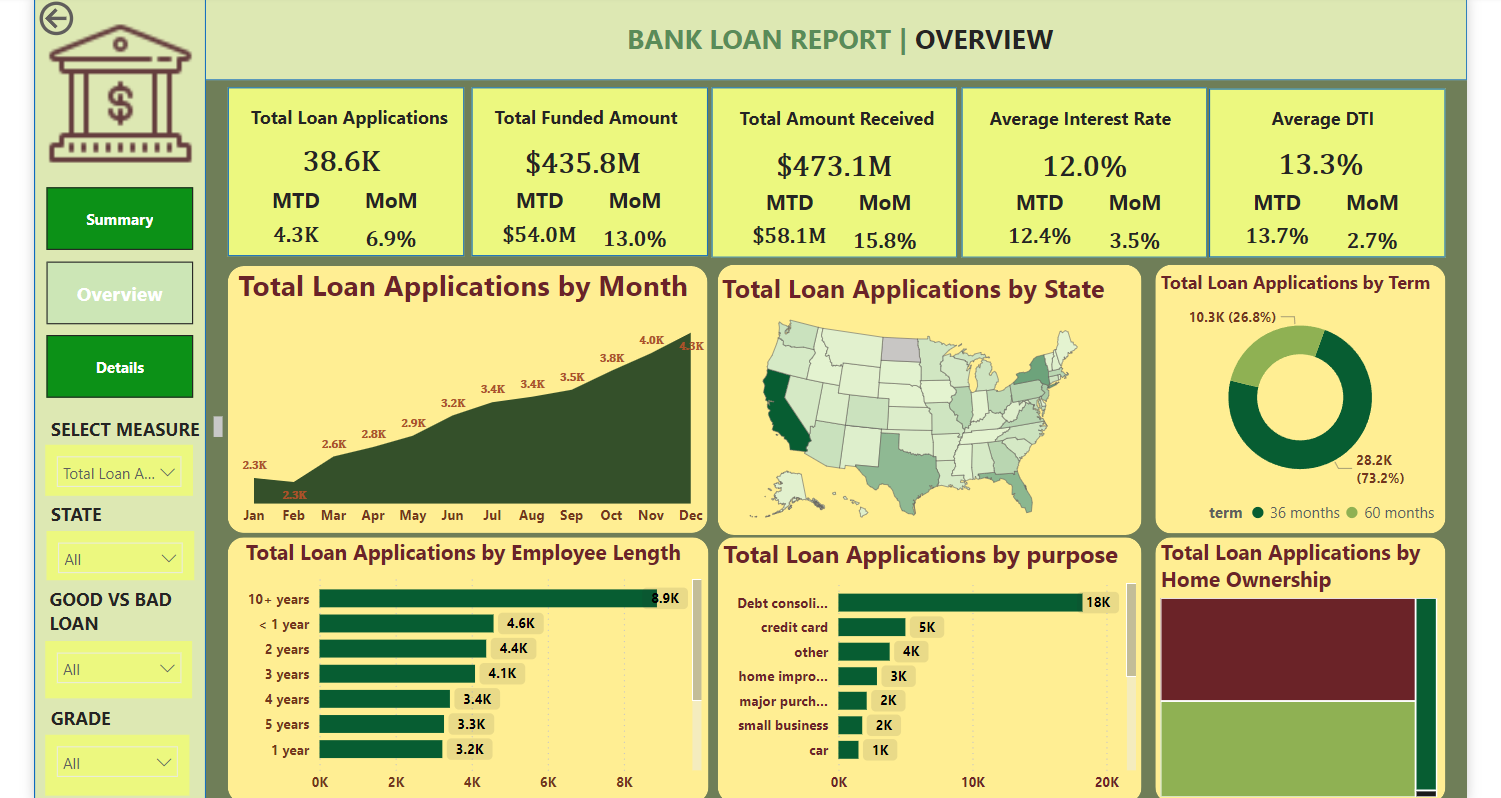

Layout of this report page (visuals, bound fields, positions):
{"tool":"powerbi","page":{"name":"Overview","canvas":[1280,720],"ordinal":1},"visuals":[{"type":"shape","box":[0,0,1280.3,75.5],"z":0},{"type":"shape","box":[172.9,81,211.3,150.9],"z":0,"group":"g1"},{"type":"shape","box":[391.1,81,211.3,150.9],"z":0,"group":"g2"},{"type":"shape","box":[605.1,81,219.6,152.3],"z":0,"group":"g3"},{"type":"shape","box":[828.8,81,219.6,152.3],"z":0,"group":"g5"},{"type":"shape","box":[1049.7,82.3,211.3,150.9],"z":0,"group":"g4"},{"type":"shape","box":[0,0,153.7,720.4],"z":1000},{"type":"card","fields":{"Values":["financial_loan.Total Loan Applications"]},"box":[218.2,116.7,111.1,59],"z":1000,"group":"g1"},{"type":"card","fields":{"Values":["financial_loan.Total Funded Amount"]},"box":[417,121.4,148.2,54.9],"z":1000,"group":"g2"},{"type":"card","fields":{"Values":["financial_loan.Avg DTI"]},"box":[1075.6,122.7,148.2,54.9],"z":1000,"group":"g4"},{"type":"card","fields":{"Values":["financial_loan.Total Amount Received"]},"box":[640.4,123.2,148.2,54.9],"z":1000,"group":"g3"},{"type":"card","fields":{"Values":["financial_loan.Avg Int Rate"]},"box":[864.1,123.2,148.2,54.9],"z":1000,"group":"g5"},{"type":"textbox","box":[524.3,17.1,428.6,47.1],"z":2000},{"type":"textbox","box":[183.9,90.6,200.3,45.3],"z":2000,"group":"g1"},{"type":"textbox","box":[402.1,90.6,200.3,45.3],"z":2000,"group":"g2"},{"type":"textbox","box":[1060.7,91.9,200.3,45.3],"z":2000,"group":"g4"},{"type":"textbox","box":[625.4,92.4,200.3,45.3],"z":2000,"group":"g3"},{"type":"textbox","box":[849.1,92.4,200.3,45.3],"z":2000,"group":"g5"},{"type":"group","id":"g1","title":"Group 1","box":[172.9,81,211.3,159.2],"z":3000},{"type":"card","title":"MTD","fields":{"Values":["financial_loan.MTD Loan Applications"]},"box":[182.5,168.8,101.5,63.1],"z":3000,"group":"g1"},{"type":"card","title":"MTD","fields":{"Values":["financial_loan.MTD Funded Amount"]},"box":[400.7,168.8,101.5,63.1],"z":3000,"group":"g2"},{"type":"card","title":"MTD","fields":{"Values":["financial_loan.MTD dti"]},"box":[1059.3,170.1,101.5,63.1],"z":3000,"group":"g4"},{"type":"card","title":"MTD","fields":{"Values":["financial_loan.MTD Amount Received"]},"box":[624.1,170.7,101.5,63.1],"z":3000,"group":"g3"},{"type":"card","title":"MTD","fields":{"Values":["financial_loan.MTD int rate"]},"box":[847.8,170.7,101.5,63.1],"z":3000,"group":"g5"},{"type":"group","id":"g2","title":"Group 1","box":[391.1,81,211.3,159.2],"z":4000},{"type":"card","title":"MoM","fields":{"Values":["financial_loan.MoM Loan Applications"]},"box":[278.6,168.8,79.6,71.4],"z":4000,"group":"g1"},{"type":"card","title":"MoM","fields":{"Values":["financial_loan.MoM funded amount"]},"box":[496.8,168.8,79.6,71.4],"z":4000,"group":"g2"},{"type":"card","title":"MoM","fields":{"Values":["financial_loan.MoM dti"]},"box":[1155.4,170.1,79.6,71.4],"z":4000,"group":"g4"},{"type":"card","title":"MoM","fields":{"Values":["financial_loan.MoM amount received"]},"box":[720.1,170.7,79.6,71.4],"z":4000,"group":"g3"},{"type":"card","title":"MoM","fields":{"Values":["financial_loan.MoM int rate"]},"box":[943.8,170.7,79.6,71.4],"z":4000,"group":"g5"},{"type":"group","id":"g3","title":"Group 1","box":[605.1,81,220.9,160.5],"z":5000},{"type":"actionButton","box":[0,0,100,40],"z":6000},{"type":"group","id":"g4","title":"Group 1","box":[1049.7,82.3,211.3,159.2],"z":7000},{"type":"group","id":"g5","title":"Group 1","box":[828.8,81,220.9,160.5],"z":8000},{"type":"slicer","fields":{"Values":["financial_loan.address_state"]},"box":[11,477.9,131.7,43.9],"z":9000},{"type":"slicer","fields":{"Values":["financial_loan.Good VS Bad Loan"]},"box":[9.6,576.7,131.4,51.4],"z":10000},{"type":"slicer","fields":{"Values":["financial_loan.grade"]},"box":[9.6,659.4,128.6,54.3],"z":11000},{"type":"textbox","box":[9.6,628.5,104.3,31.6],"z":12000},{"type":"textbox","box":[9.2,523.1,131.7,54.9],"z":13000},{"type":"textbox","box":[9.6,446.4,90.6,31.6],"z":14000},{"type":"shape","box":[172.9,241.4,428.6,238.6],"z":15000},{"type":"areaChart","fields":{"Y":["financial_loan.Total Loan Applications"],"Category":["Date Table.Month"]},"box":[177.1,241.4,428.6,241.4],"z":16000},{"type":"slicer","fields":{"Values":["Select Measure.Select Measure"]},"box":[9.6,401.1,131.7,45.3],"z":17000},{"type":"textbox","box":[9.6,370.9,163.3,30.2],"z":18000},{"type":"shape","box":[610.6,240.1,378.7,241.5],"z":19000},{"type":"shapeMap","title":"Total Loan Applications by State","fields":{"Value":["financial_loan.Total Loan Applications"],"Category":["financial_loan.address_state"]},"box":[609.3,244.3,352.7,236],"z":20000},{"type":"shape","box":[1001.7,240.1,259.3,240.1],"z":21000},{"type":"donutChart","title":"Total Loan Applications by Term","fields":{"Y":["financial_loan.Total Loan Applications"],"Category":["financial_loan.term"]},"box":[1001.7,244.3,259.3,236],"z":22000},{"type":"shape","box":[172.9,483,429.5,237.4],"z":23000},{"type":"barChart","title":"Total Loan Applications by Employee Length","fields":{"Category":["financial_loan.emp_length"],"Y":["financial_loan.Total Loan Applications"]},"box":[183.9,483,417.2,237.4],"z":23001},{"type":"shape","box":[610.6,483,378.7,237.4],"z":23002},{"type":"barChart","fields":{"Y":["financial_loan.Total Loan Applications"],"Category":["financial_loan.purpose"]},"box":[610.6,483,378.7,237.4],"z":23003},{"type":"shape","box":[1001.7,483,259.3,237.4],"z":23004},{"type":"treemap","title":"Total Loan Applications by Home Ownership","fields":{"Group":["financial_loan.home_ownership"],"Values":["financial_loan.Total Loan Applications"]},"box":[1001.7,483,256.6,237.4],"z":23005},{"type":"image","box":[0,12.3,153.7,149.6],"z":23006},{"type":"pageNavigator","box":[11.5,170.7,131.7,190.7],"z":23007}]}

Visuals, with their boxes on the page's 1280x720 design canvas (x1, y1, x2, y2). These are canvas units, not pixel positions in the 1501x798 screenshot, which may show the page scaled, cropped or inside an application window:
shape: 0/0/1280/76
shape: 173/81/384/232
shape: 391/81/602/232
shape: 605/81/825/233
shape: 829/81/1048/233
shape: 1050/82/1261/233
shape: 0/0/154/720
card - financial_loan.Total Loan Applications: 218/117/329/176
card - financial_loan.Total Funded Amount: 417/121/565/176
card - financial_loan.Avg DTI: 1076/123/1224/178
card - financial_loan.Total Amount Received: 640/123/789/178
card - financial_loan.Avg Int Rate: 864/123/1012/178
textbox: 524/17/953/64
textbox: 184/91/384/136
textbox: 402/91/602/136
textbox: 1061/92/1261/137
textbox: 625/92/826/138
textbox: 849/92/1049/138
"Group 1" group: 173/81/384/240
"MTD" card: 182/169/284/232
"MTD" card: 401/169/502/232
"MTD" card: 1059/170/1161/233
"MTD" card: 624/171/726/234
"MTD" card: 848/171/949/234
"Group 1" group: 391/81/602/240
"MoM" card: 279/169/358/240
"MoM" card: 497/169/576/240
"MoM" card: 1155/170/1235/242
"MoM" card: 720/171/800/242
"MoM" card: 944/171/1023/242
"Group 1" group: 605/81/826/242
actionButton: 0/0/100/40
"Group 1" group: 1050/82/1261/242
"Group 1" group: 829/81/1050/242
slicer - financial_loan.address_state: 11/478/143/522
slicer - financial_loan.Good VS Bad Loan: 10/577/141/628
slicer - financial_loan.grade: 10/659/138/714
textbox: 10/628/114/660
textbox: 9/523/141/578
textbox: 10/446/100/478
shape: 173/241/602/480
areaChart - financial_loan.Total Loan Applications x Date Table.Month: 177/241/606/483
slicer - Select Measure.Select Measure: 10/401/141/446
textbox: 10/371/173/401
shape: 611/240/989/482
"Total Loan Applications by State" shapeMap: 609/244/962/480
shape: 1002/240/1261/480
"Total Loan Applications by Term" donutChart: 1002/244/1261/480
shape: 173/483/602/720
"Total Loan Applications by Employee Length" barChart: 184/483/601/720
shape: 611/483/989/720
barChart - financial_loan.Total Loan Applications x financial_loan.purpose: 611/483/989/720
shape: 1002/483/1261/720
"Total Loan Applications by Home Ownership" treemap: 1002/483/1258/720
image: 0/12/154/162
pageNavigator: 12/171/143/361
